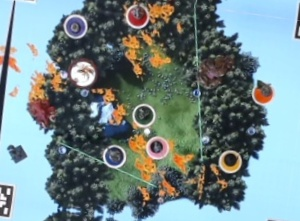blue: (98, 140, 129, 171)
green: (129, 99, 158, 129)
orange: (250, 79, 277, 105)
pink: (142, 132, 169, 158)
red: (121, 1, 153, 31)
violet: (60, 10, 89, 40)
yellow: (216, 145, 243, 174)
